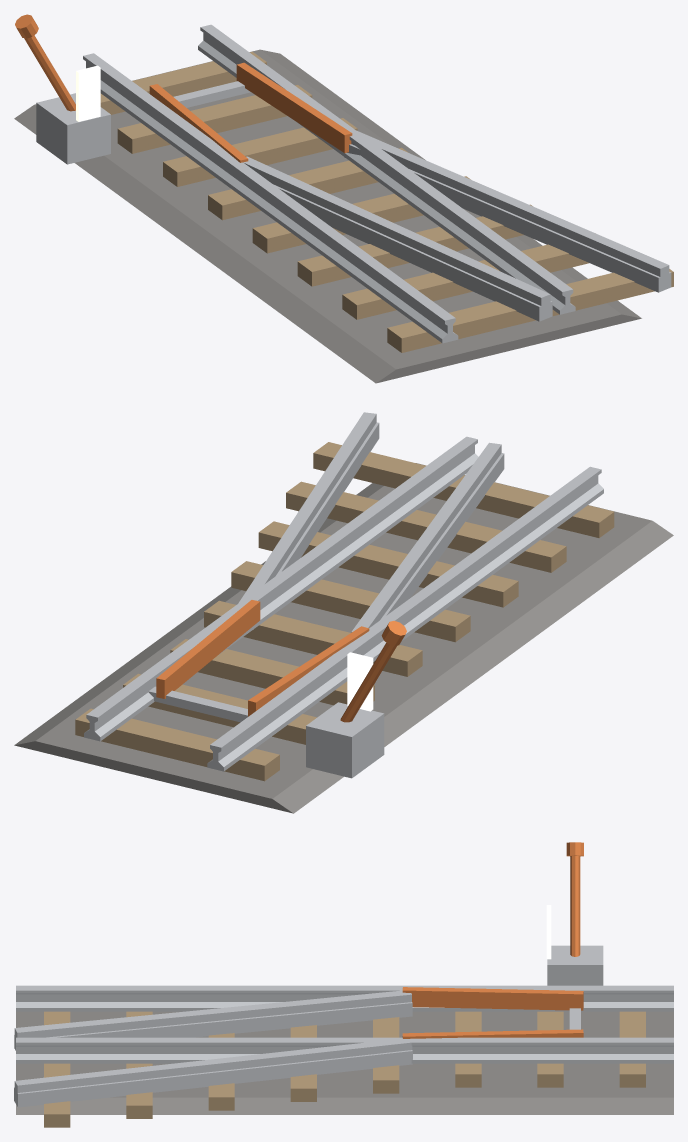
File: underground-mine-and-shaft-works-rail-switch-narrow-6485324d.glb
The picture shows the model from 3 angles, top to bottom: view 1: azimuth 30°, elevation 25°; view 2: azimuth 150°, elevation 25°; view 3: azimuth 270°, elevation 25°; orthographic projection. The views are drawn at different scales.
Visible parts, largest first — view 1: rail-switch-narrow; view 2: rail-switch-narrow; view 3: rail-switch-narrow.
Part boxes in pixels (<box>): rail-switch-narrow: <box>14,14,673,383</box>; rail-switch-narrow: <box>14,412,673,813</box>; rail-switch-narrow: <box>14,842,673,1127</box>.
Bounding box in the file's own units: 2.33 × 0.9267 × 4.01.
